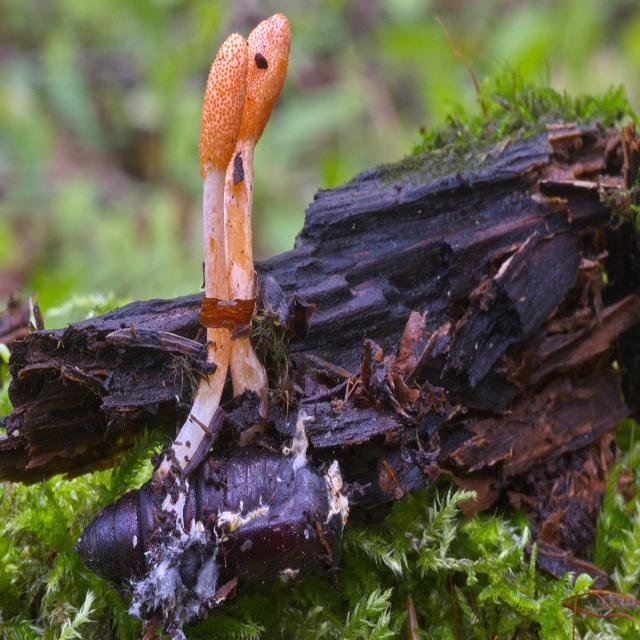Cordyceps militaris: (72, 13, 349, 576)
